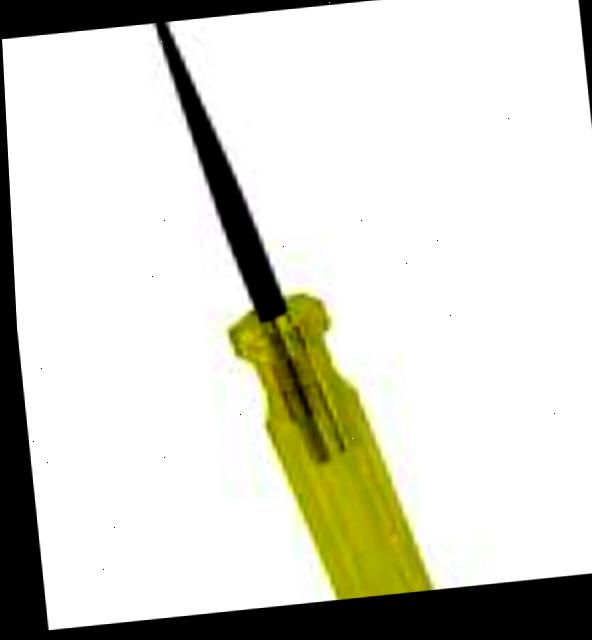ice pick: (143, 2, 435, 617)
